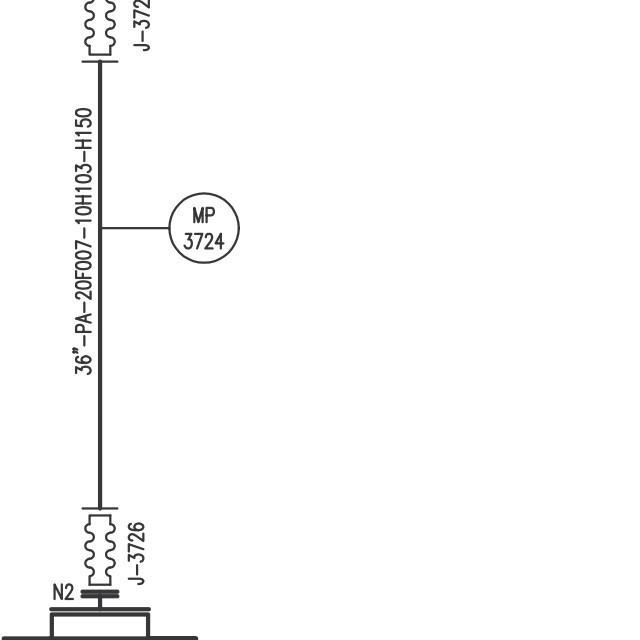EJ: (75, 500, 125, 595), (77, 0, 125, 69)
